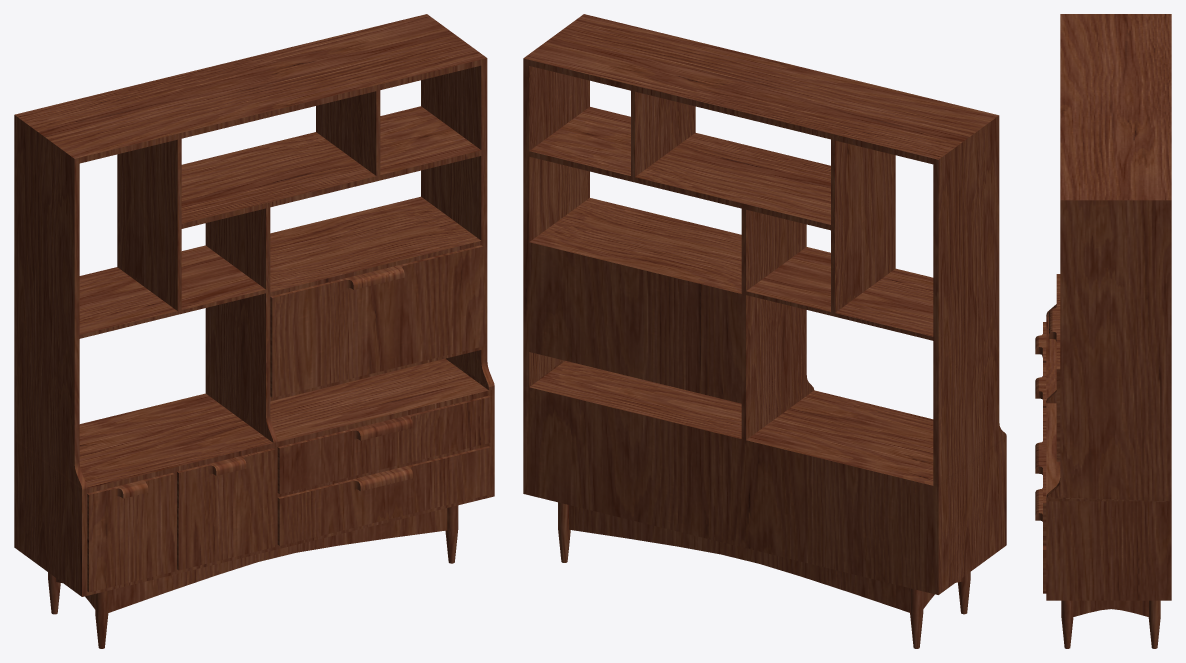
File: MuebleMadera.fbx
3 views of the same model, side by side, from view 1: azimuth 30°, elevation 25°; view 2: azimuth 150°, elevation 25°; view 3: azimuth 270°, elevation 25° (orthographic). The views are drawn at different scales.
Visible parts, largest first — view 1: bokahilla; view 2: bokahilla; view 3: bokahilla.
Boxes of the visible parts, x1,y1,x2,y2 form: bokahilla: (14,14,494,648); bokahilla: (523,14,1006,648); bokahilla: (1035,14,1171,648).
Bounding box in the file's own units: 171 × 197 × 52.93.
